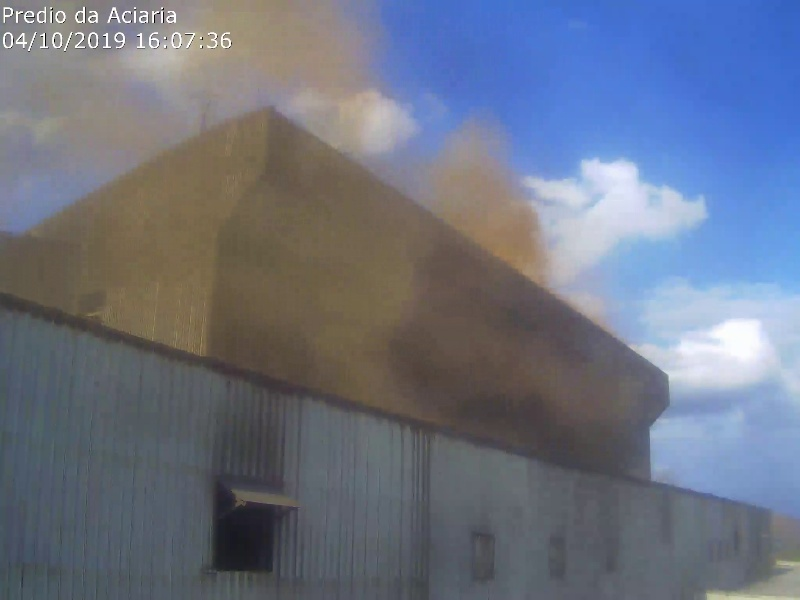bom: (566, 9, 800, 279), (411, 1, 583, 90)
pessimo: (2, 4, 365, 404), (389, 127, 560, 404)
